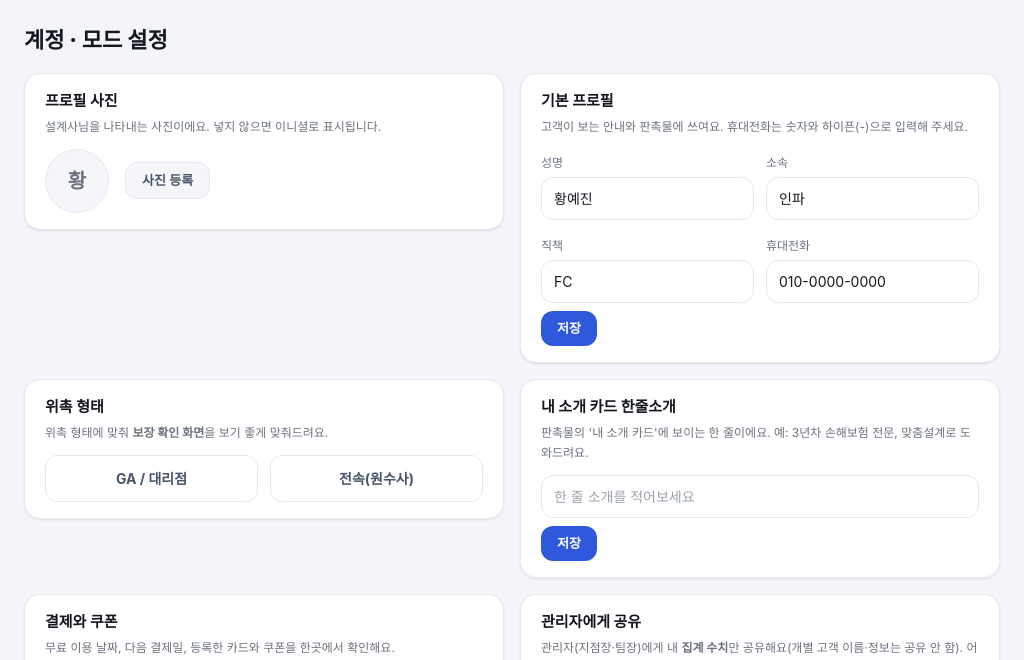
Test: 기본 프로필 저장 결과 › 400 검증 실패는 error alert로 알린다
Expected: the field showing "황예진" is shown, [541, 176, 754, 220]
Step 1. Click the button "저장" below "직책" → (569,328), box [541, 310, 597, 346]
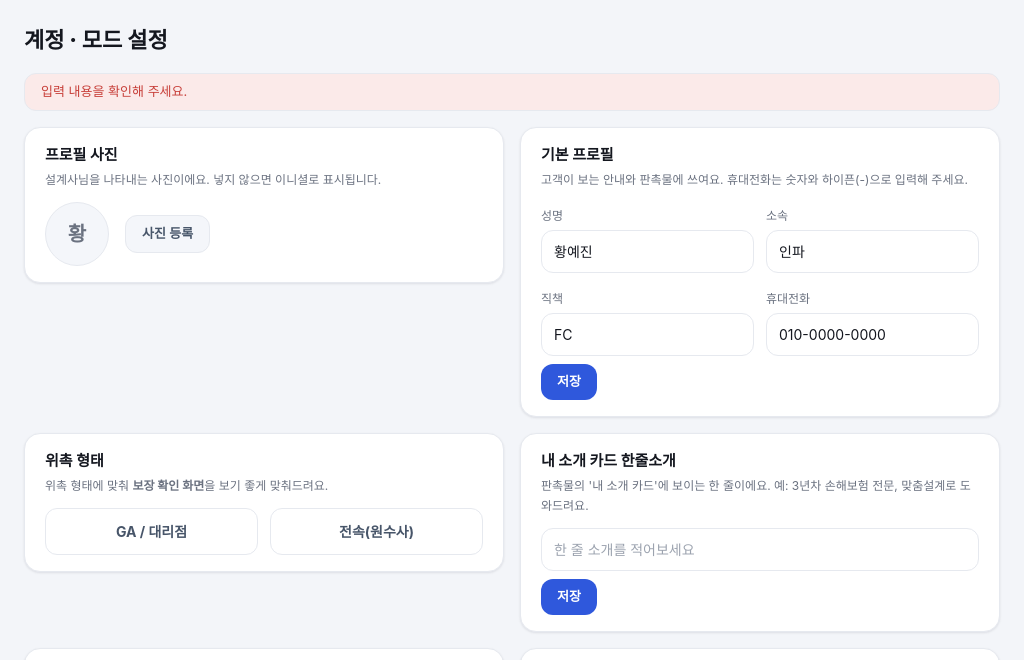
Result: the message reads "입력 내용을 확인해 주세요." at [41, 83, 187, 99]
